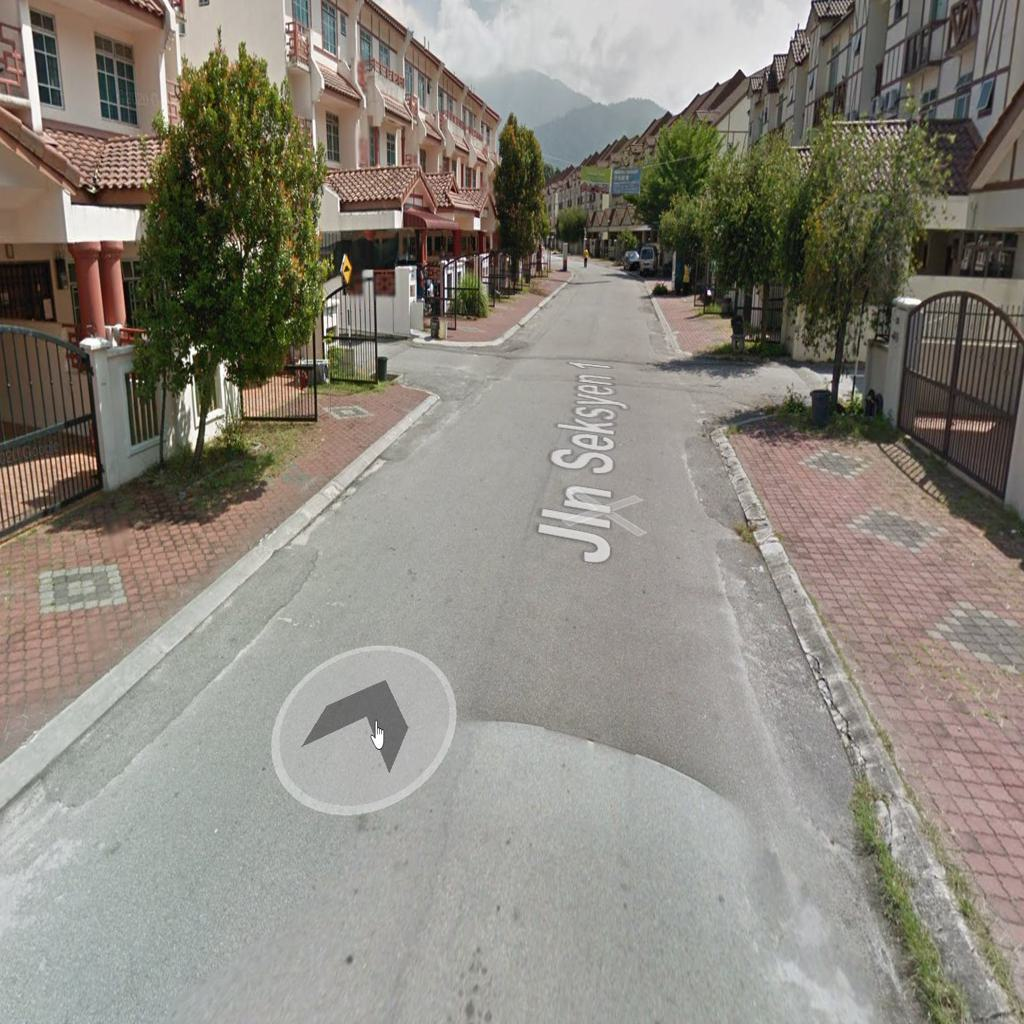Junction: (653, 327, 851, 446), (333, 313, 513, 423)
